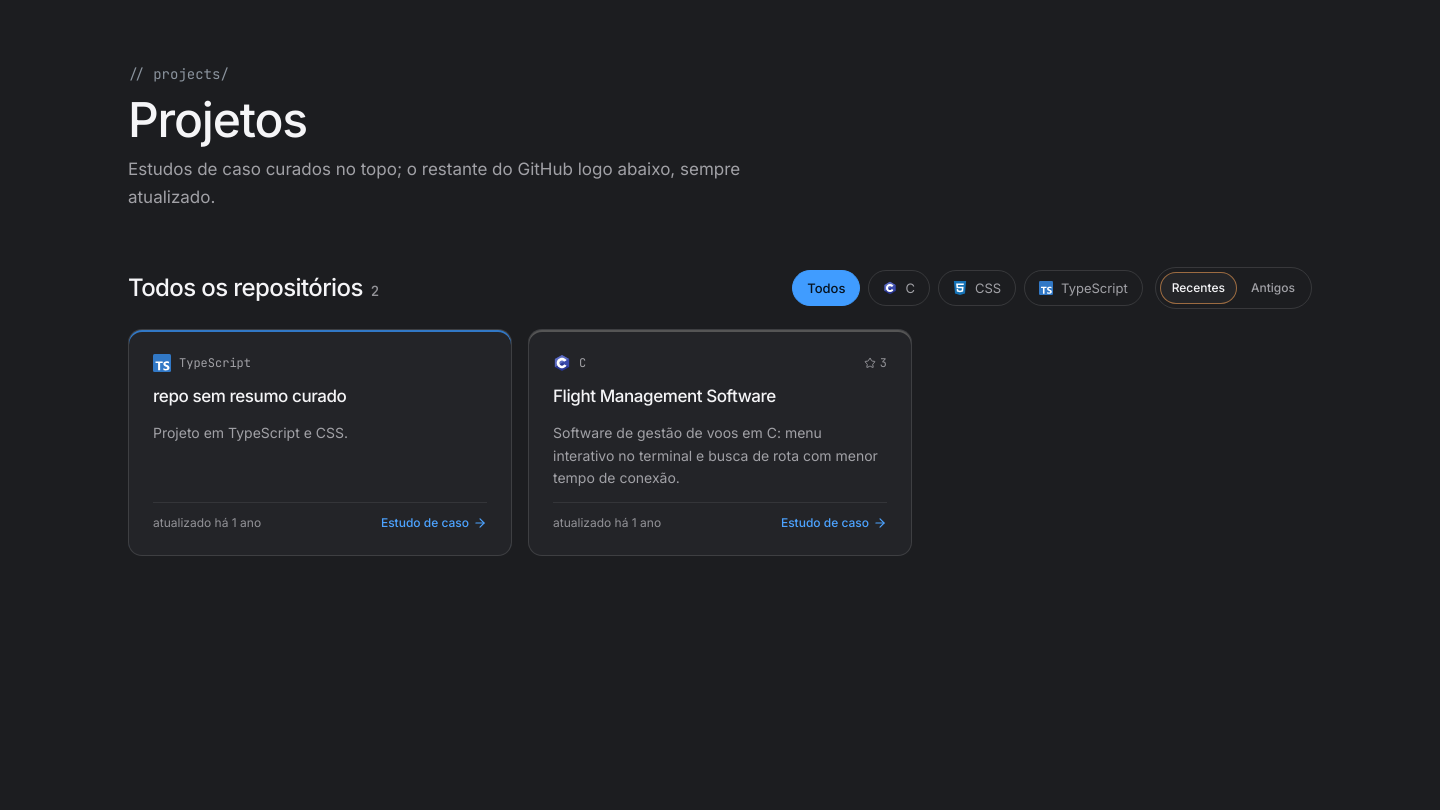
Projects Page — Quick Look (Espaço) e navegação por teclado › fecha o Quick Look com Escape
The image size is (1440, 810).
Step 1. Click the button "Flight Management Software" → (664, 397), box [553, 384, 776, 410]
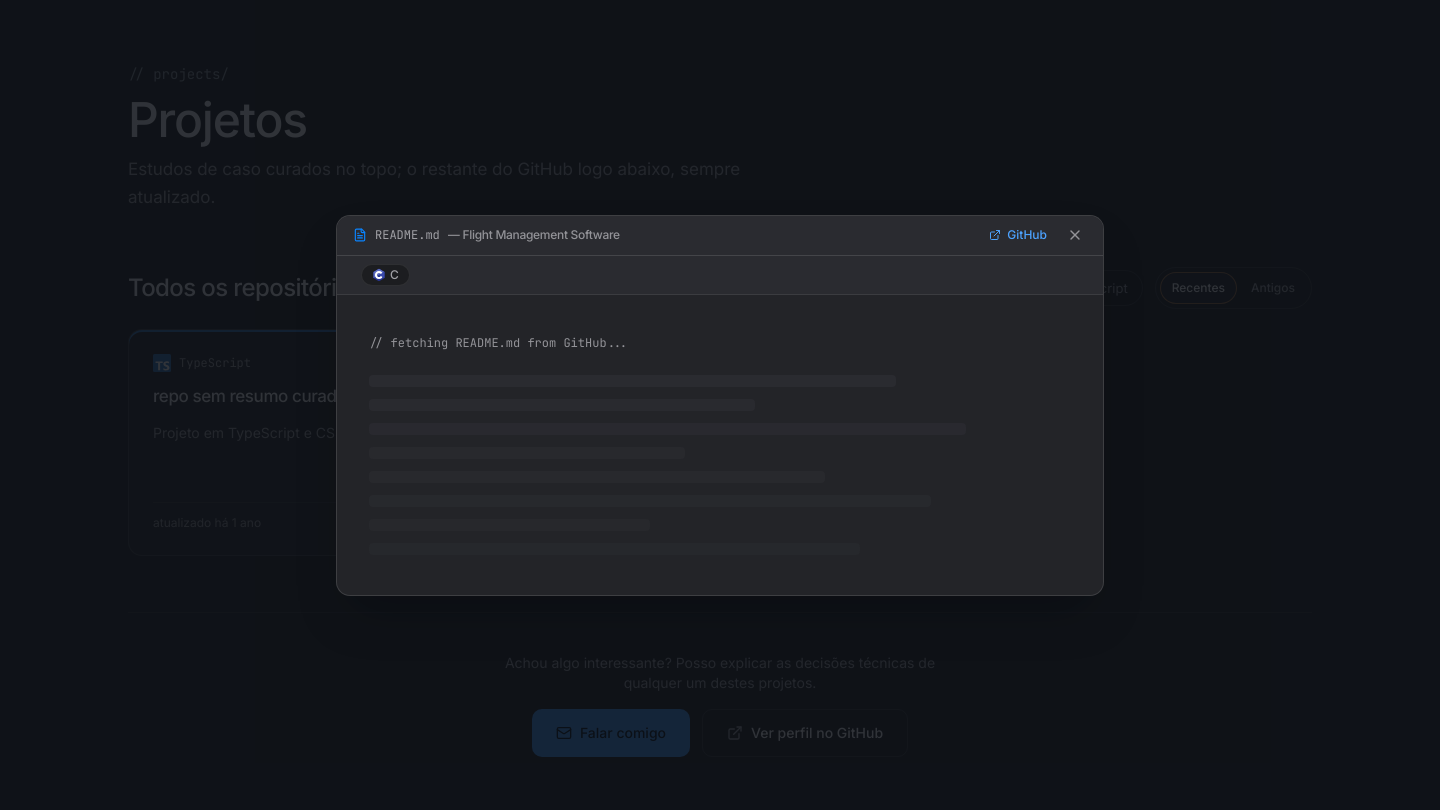
Step 2. Press Escape
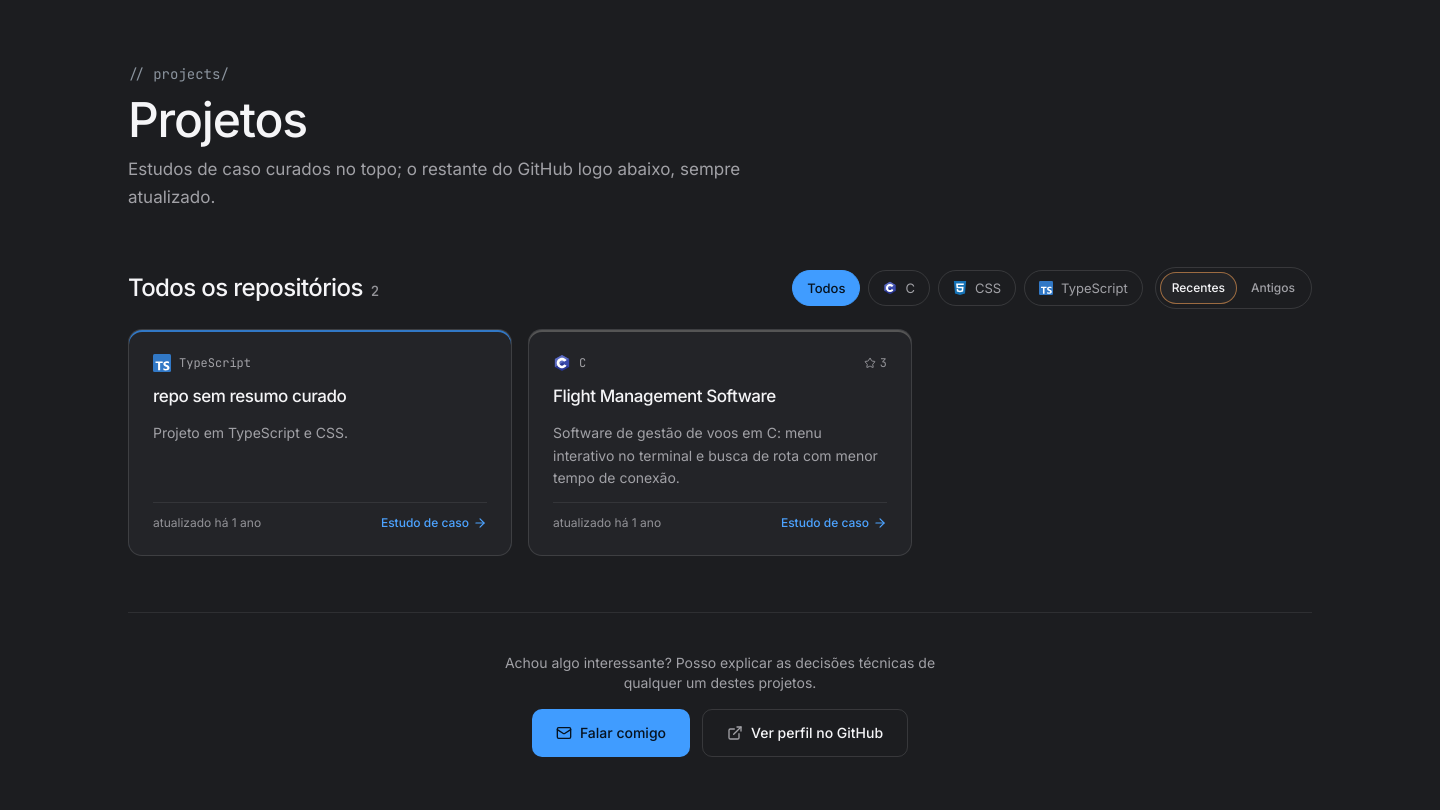
Check: the text "README.md" is not shown
